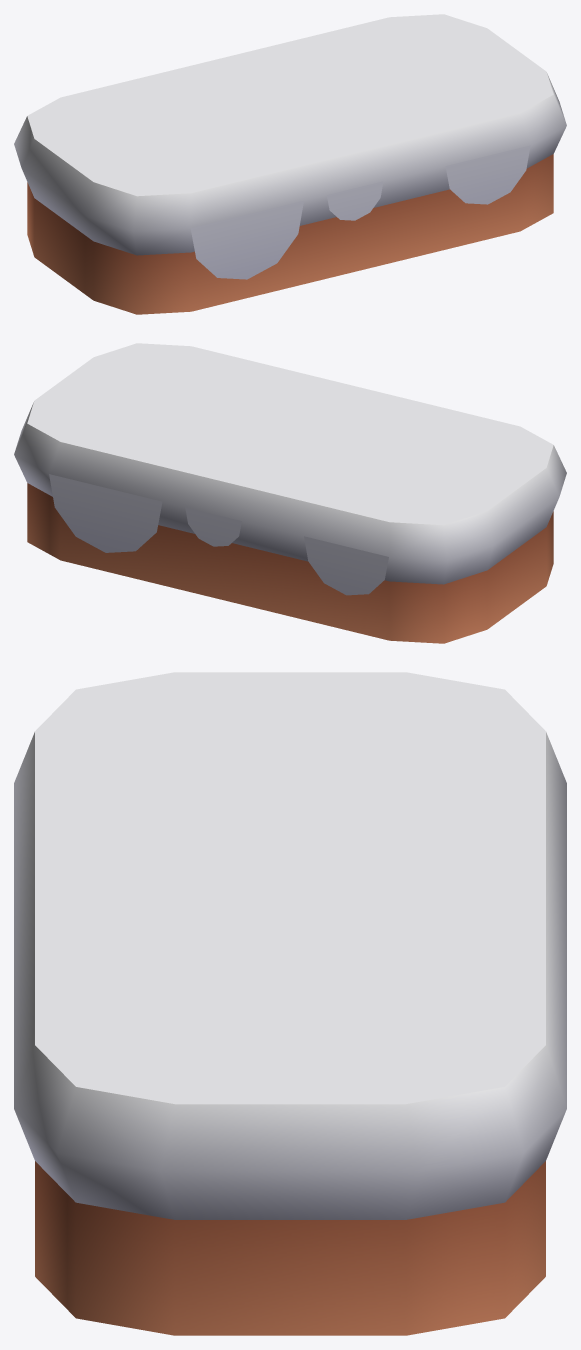
File: block-snow-overhang-low-long.glb
The picture shows the model from 3 angles, top to bottom: view 1: azimuth 30°, elevation 25°; view 2: azimuth 150°, elevation 25°; view 3: azimuth 270°, elevation 25°; orthographic projection. The views are drawn at different scales.
Parts seen in each view (by area): view 1: block-snow-overhang-low-long; view 2: block-snow-overhang-low-long; view 3: block-snow-overhang-low-long.
Part boxes in pixels (bbox=[...]): block-snow-overhang-low-long: bbox=[14, 14, 566, 314]; block-snow-overhang-low-long: bbox=[14, 343, 566, 643]; block-snow-overhang-low-long: bbox=[14, 672, 566, 1335].
Size of the model in its own units: 2.08 by 0.5 by 1.08.
1 material, 1 textured.
